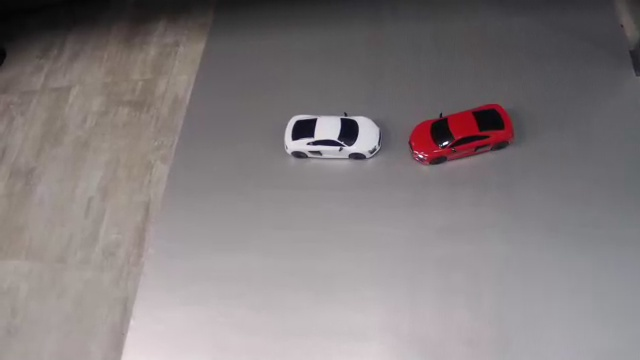car: (410, 104, 515, 165), (286, 112, 383, 159)
